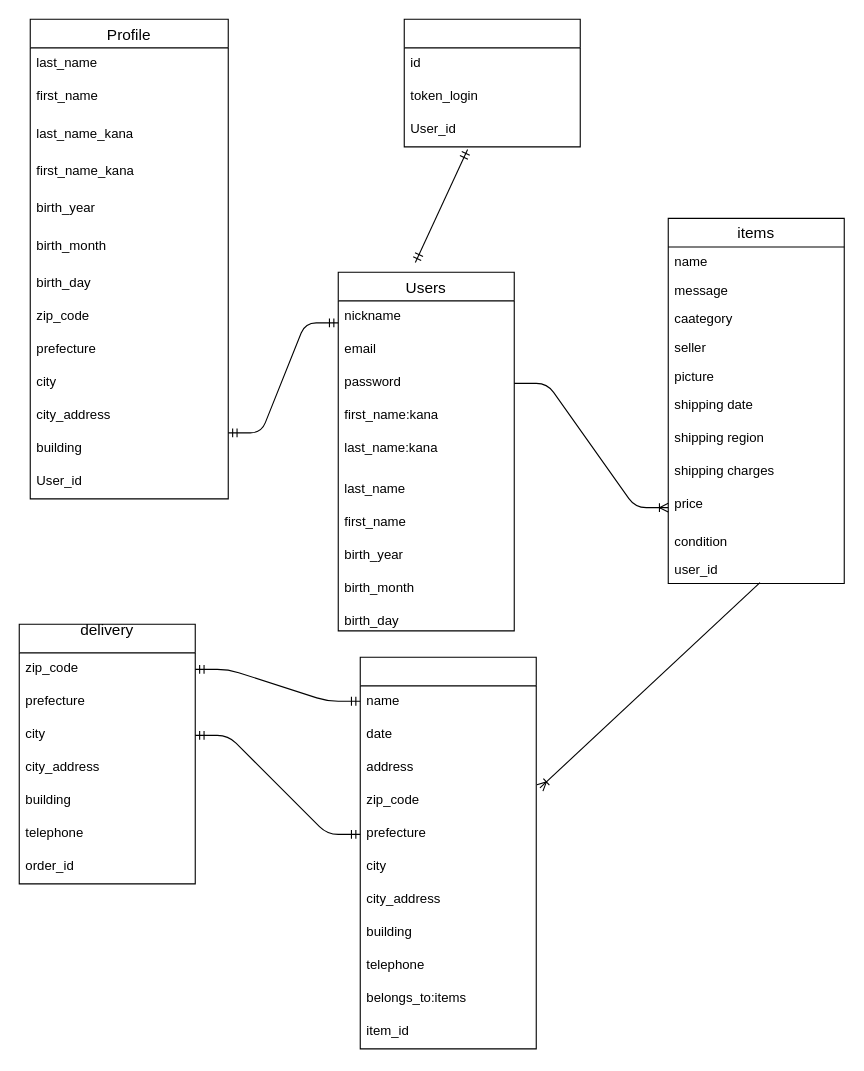
Image size: 864x1071. Some labels were removed from this diagram. The shapes that lost their labels are listed below. From the top down, each one's box as (x1, y1, x2, y2) in pixels, then its label:
(403, 18, 580, 147): Credit_card
(359, 656, 536, 1049): order
